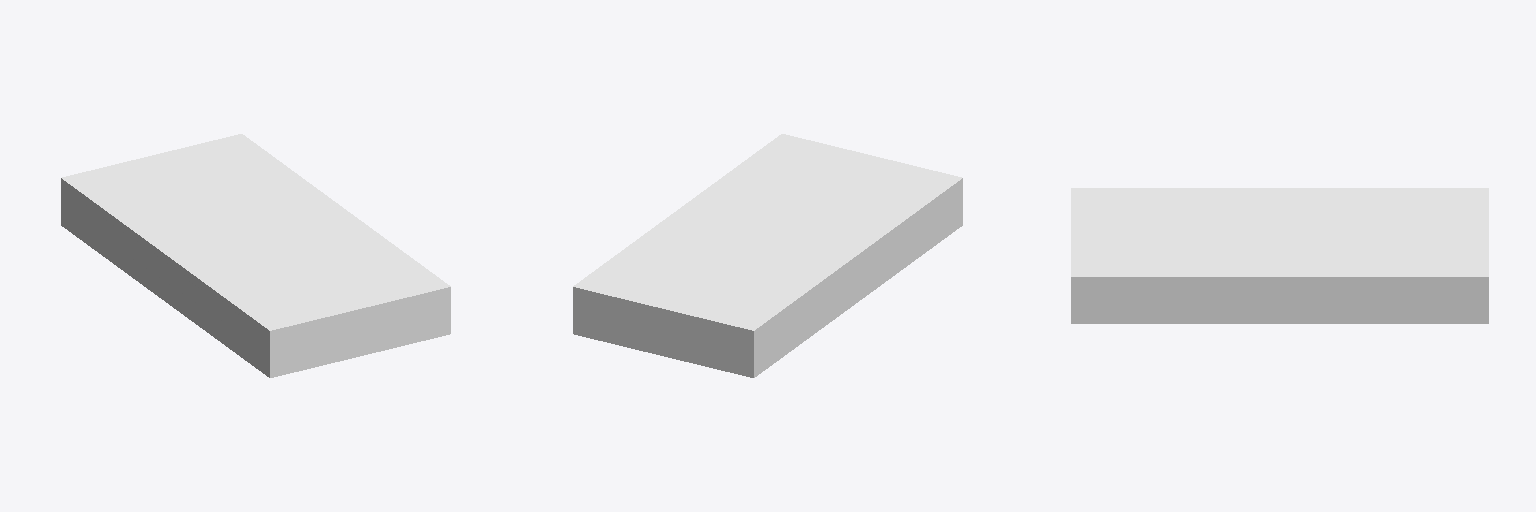
File: Environment-7.obj
3 views of the same model, side by side, from view 1: azimuth 30°, elevation 25°; view 2: azimuth 150°, elevation 25°; view 3: azimuth 270°, elevation 25° (orthographic).
Parts seen in each view (by area): view 1: object 1; view 2: object 1; view 3: object 1.
Part boxes in pixels (left/top/right/bottom): object 1: left=61, top=134, right=450, bottom=377; object 1: left=573, top=134, right=962, bottom=377; object 1: left=1071, top=188, right=1488, bottom=323.
Bounding box in the file's own units: 4 × 1 × 8.